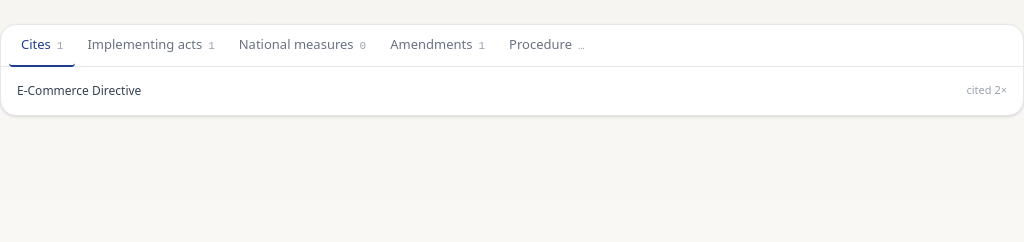
Test: MetadataPanel tabs › shows the honest empty state and truncation notice
This screenshot has width=1024, height=242.
Click the tab "National measures 0" at (302, 46), box [227,25,378,66]
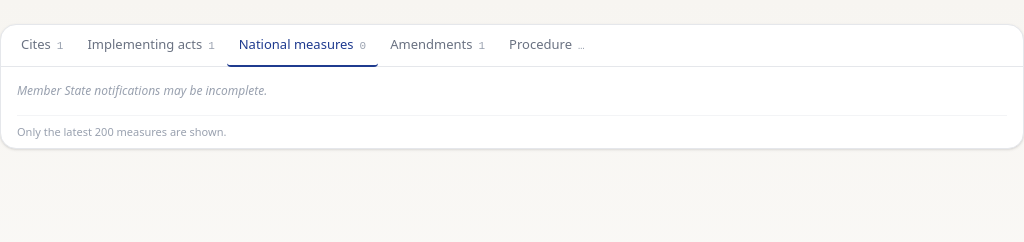
Now the text "Member State notifications may be incomplete." is shown, box [17,82,267,98]
Now the text "Only the latest 200 measures are shown." is shown, box [17,114,1007,140]
